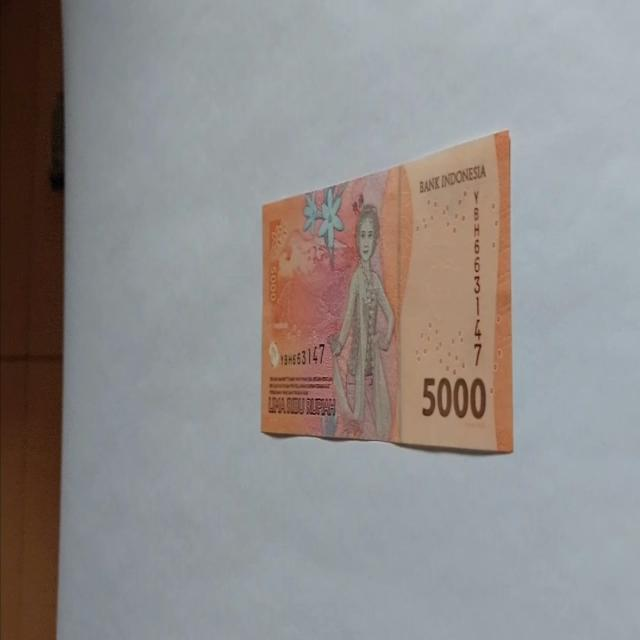lima ribu rupiah: (260, 128, 514, 454), (326, 202, 396, 440)
